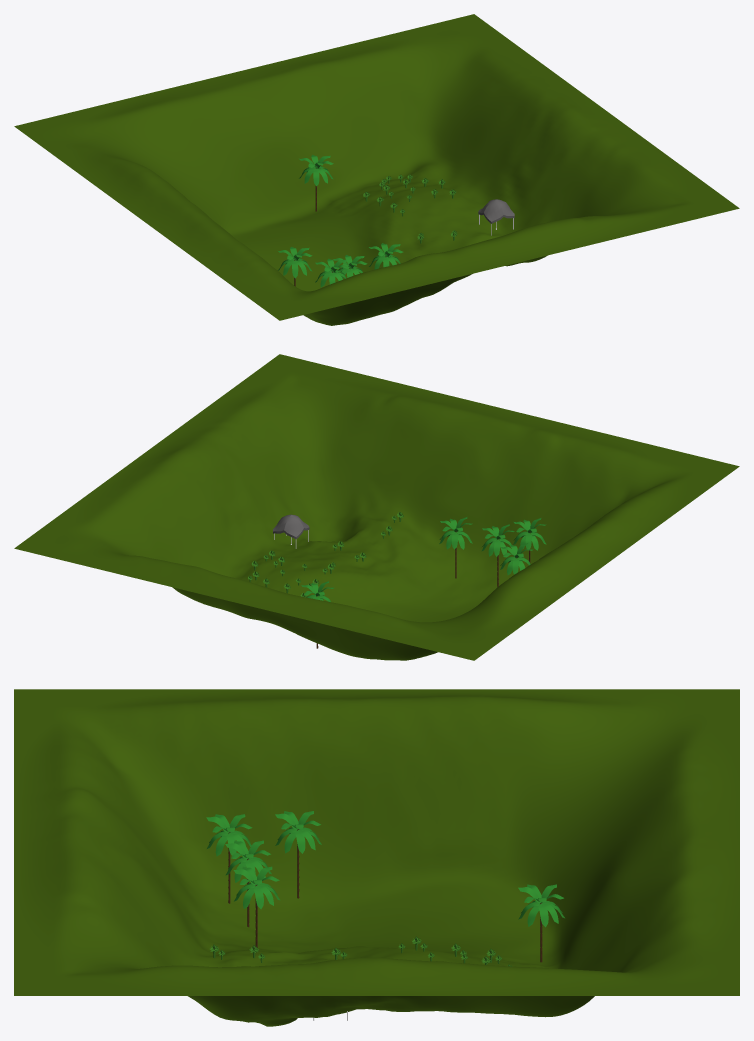
Rendered from escenario para pruebassincorte.fbx.
3 renders of one model, top to bottom at view 1: azimuth 30°, elevation 25°; view 2: azimuth 150°, elevation 25°; view 3: azimuth 270°, elevation 25°, orthographic. The views are drawn at different scales.
Visible parts, largest first — view 1: Landscape; view 2: Landscape; view 3: Landscape.
Boxes of the visible parts, x1,y1,x2,y2 form: Landscape: (14, 14, 739, 325); Landscape: (14, 354, 739, 660); Landscape: (14, 689, 739, 1026).
Bounding box in the file's own units: 61411 × 14478 × 61411.
